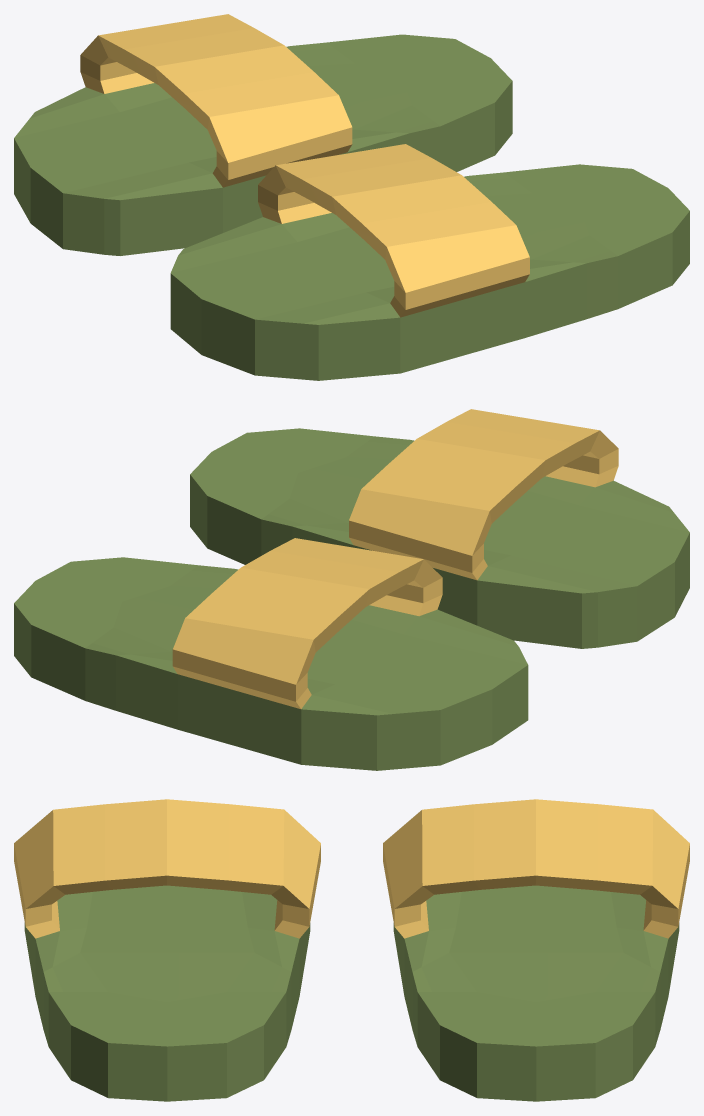
The model's file is slipper_1_partyassets.fbx.
The picture shows the model from 3 angles, top to bottom: view 1: azimuth 30°, elevation 25°; view 2: azimuth 150°, elevation 25°; view 3: azimuth 270°, elevation 25°; orthographic projection. The views are drawn at different scales.
Parts seen in each view (by area): view 1: slipper_1_partyassets, slipper_1_partyassets.001; view 2: slipper_1_partyassets, slipper_1_partyassets.001; view 3: slipper_1_partyassets, slipper_1_partyassets.001.
Part boxes in pixels (x1=…): slipper_1_partyassets: x1=14, y1=34, x2=689, y2=380; slipper_1_partyassets.001: x1=80, y1=14, x2=529, y2=317; slipper_1_partyassets: x1=14, y1=428, x2=689, y2=770; slipper_1_partyassets.001: x1=172, y1=409, x2=618, y2=708; slipper_1_partyassets: x1=24, y1=885, x2=679, y2=1101; slipper_1_partyassets.001: x1=14, y1=799, x2=689, y2=938.
Bounding box in the file's own units: 23.74 × 6.15 × 28.64.
